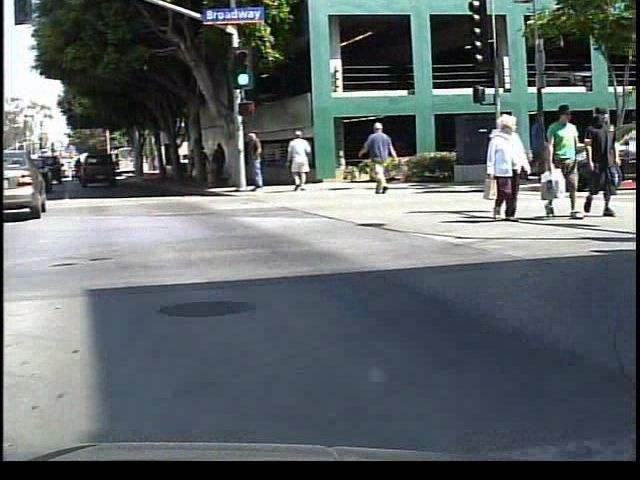person: (485, 112, 539, 227), (547, 102, 585, 221), (585, 104, 624, 218), (363, 121, 403, 194), (526, 109, 556, 185), (248, 123, 276, 199), (291, 128, 319, 194), (214, 138, 235, 189), (202, 144, 217, 188)
